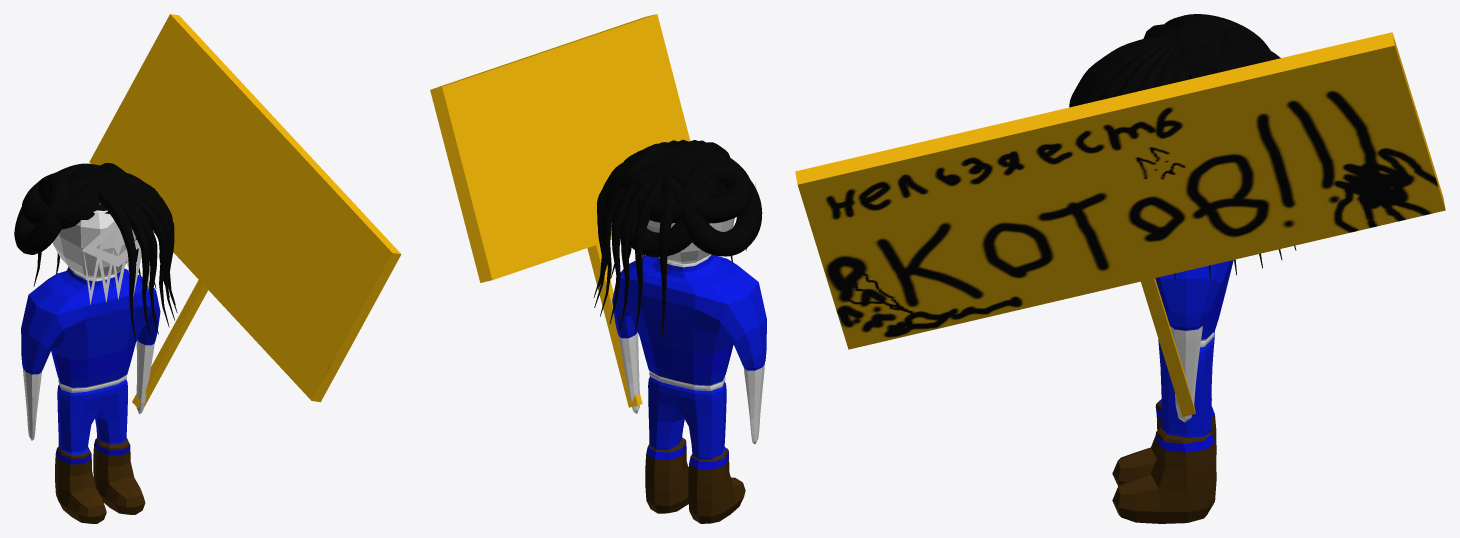
Rendered from Либирист.fbx.
3 renders of one model, left to right at view 1: azimuth 30°, elevation 25°; view 2: azimuth 150°, elevation 25°; view 3: azimuth 270°, elevation 25°, orthographic. The views are drawn at different scales.
Parts seen in each view (by area): view 1: Cube.002, Cube; view 2: Cube, Cube.002; view 3: Cube.002, Cube.
Boxes of the visible parts, <box> form: Cube.002: <box>89,14,401,407</box>; Cube: <box>14,163,177,523</box>; Cube: <box>593,139,766,523</box>; Cube.002: <box>430,14,690,407</box>; Cube.002: <box>795,32,1445,416</box>; Cube: <box>1069,14,1296,523</box>.
Bounding box in the file's own units: 222 × 356 × 362.
Materials: 7 (1 with a texture image).
